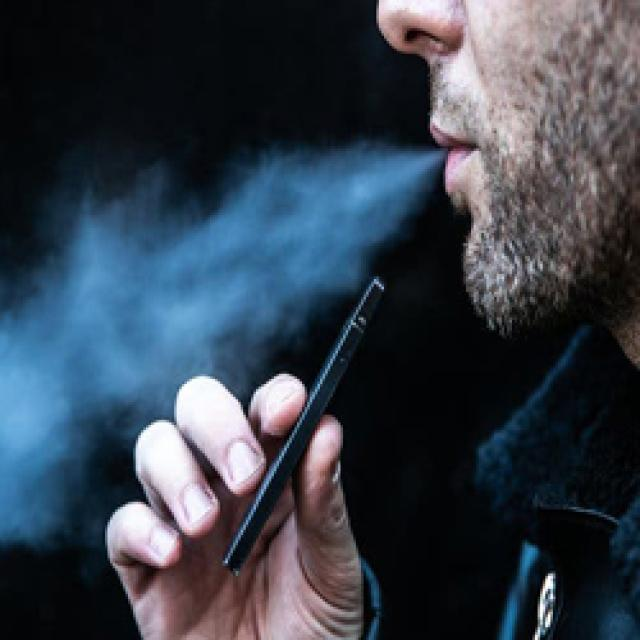Smooking: (212, 234, 400, 596)
